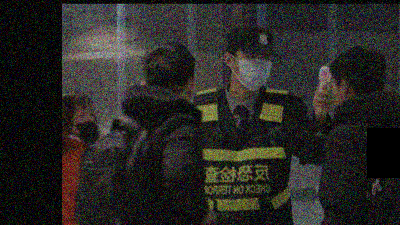with_mask: (235, 53, 274, 92), (73, 107, 99, 142)
